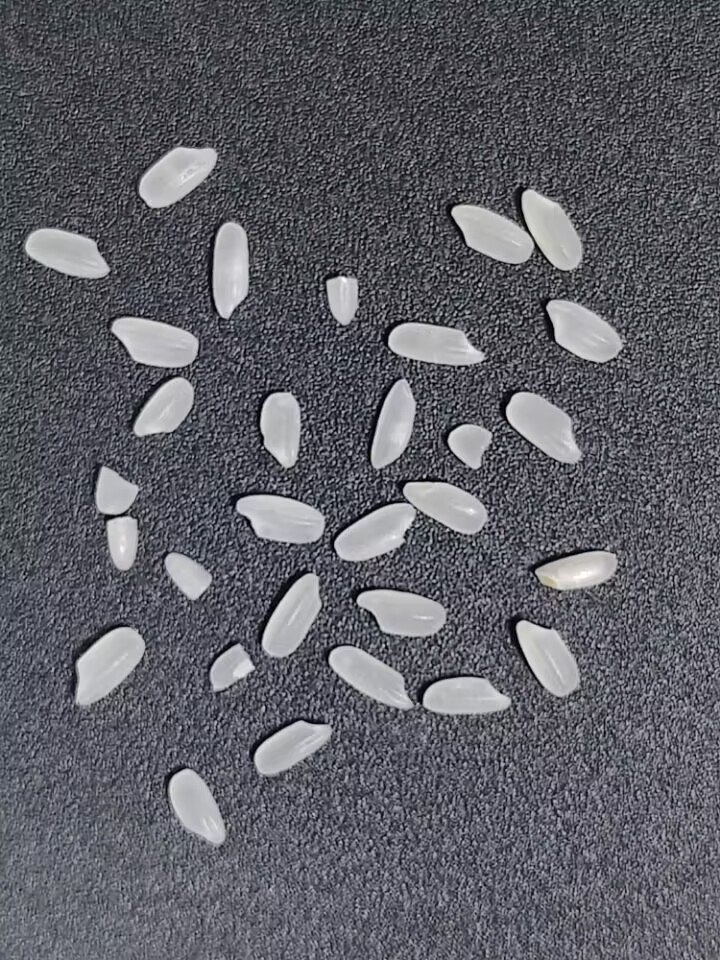broken: (163, 552, 213, 601), (208, 643, 256, 694), (446, 423, 493, 470), (95, 466, 138, 515), (325, 274, 360, 327), (105, 516, 139, 570)
rice: (322, 643, 415, 719), (504, 388, 585, 467), (400, 476, 499, 538), (75, 626, 145, 708), (106, 314, 202, 372), (362, 373, 419, 470), (253, 717, 336, 783), (262, 572, 323, 660), (232, 492, 329, 547), (450, 203, 535, 265), (137, 145, 218, 210), (515, 619, 581, 698), (521, 187, 582, 271), (546, 298, 623, 363), (334, 502, 416, 563), (206, 218, 253, 320), (25, 227, 110, 279), (356, 589, 446, 638), (169, 768, 226, 845), (388, 322, 484, 367), (134, 376, 194, 438), (422, 676, 511, 716), (535, 550, 618, 590), (259, 391, 300, 469)
